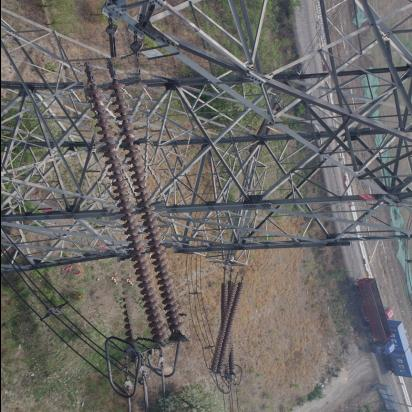insulator: (93, 56, 178, 352), (215, 273, 245, 377)
